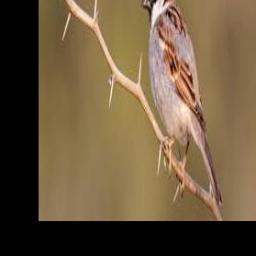Sparrow: (141, 0, 223, 209)
